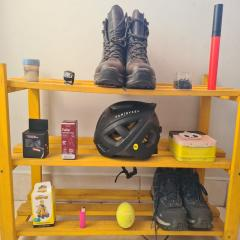bola: (116, 201, 136, 230)
bomba: (206, 3, 224, 91)
bota1: (94, 5, 157, 89)
bota2: (150, 168, 214, 230)
capacete: (93, 100, 162, 160)
cx-bike: (22, 118, 48, 159)
cx-ferro: (61, 120, 78, 160)
cx-magali: (168, 129, 217, 162)
cx-minions: (32, 181, 57, 227)
cx-xuxa: (173, 71, 193, 90)
isqueiro: (78, 207, 86, 230)
luz: (64, 70, 74, 86)
pote: (22, 58, 40, 82)
